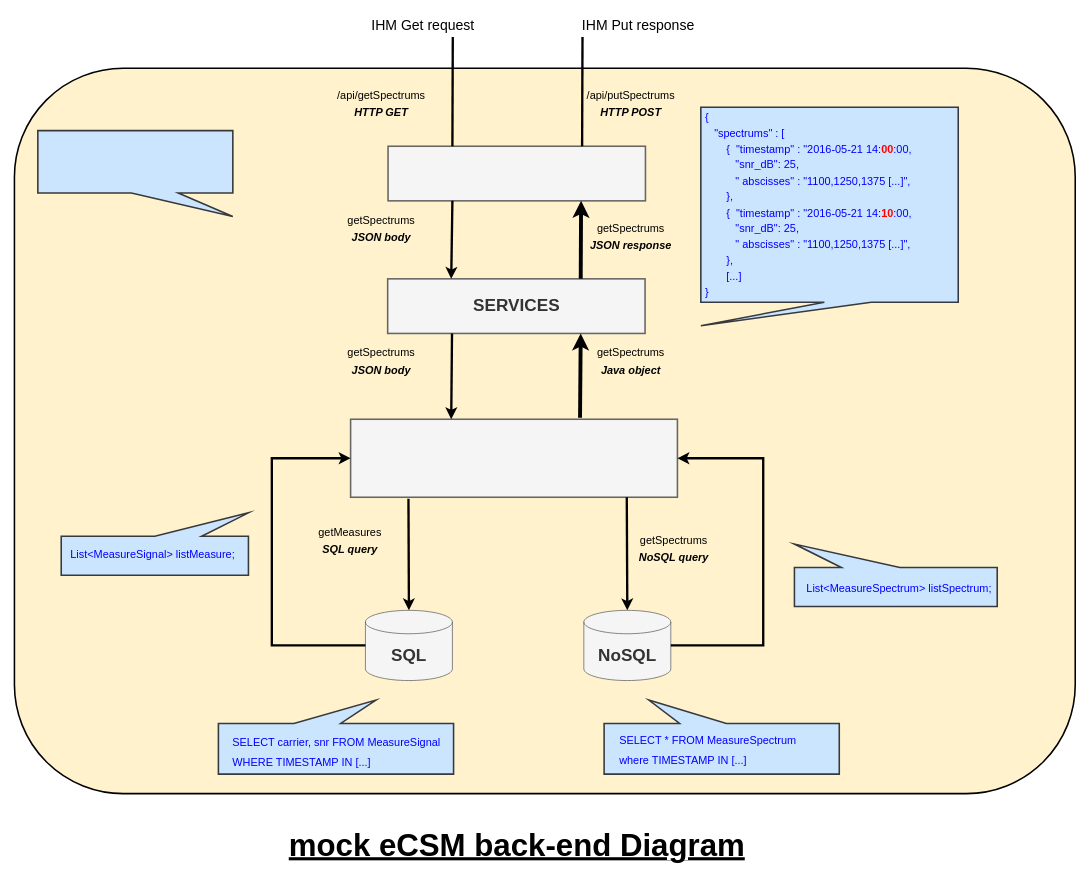
Some shapes in this 1089 by 876 pixel diagram are drawn without their labels. The box of each missing label's shape, as (x1, y1, x2, y2) in pixels:
JPA REPOSITORY: (349, 418, 678, 498)
REST CONTROLLER: (387, 145, 646, 201)
{ "timestamp" : "2016-05-21 14:00:00; }: (37, 129, 233, 217)
